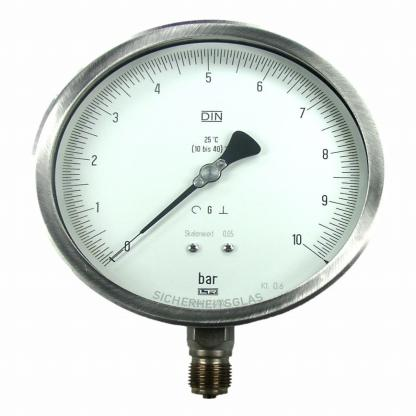needle: (138, 184, 199, 236)
